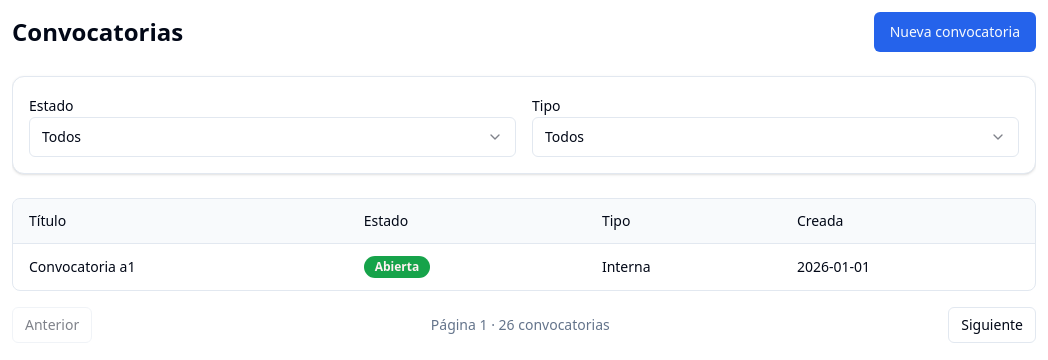
it: CallList — paginated rows › follows the next link and requests page 2
The image size is (1048, 360).
Expected: the link "Convocatoria a1" is shown, [29,257,135,276]
Click the button "Siguiente".
click(992, 325)  # box [948,307,1036,343]
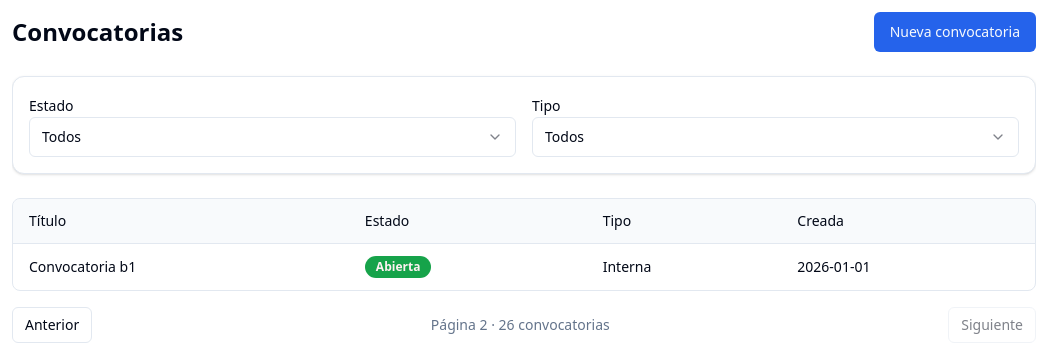
Expected: the link "Convocatoria b1" is shown, [29,257,136,276]
